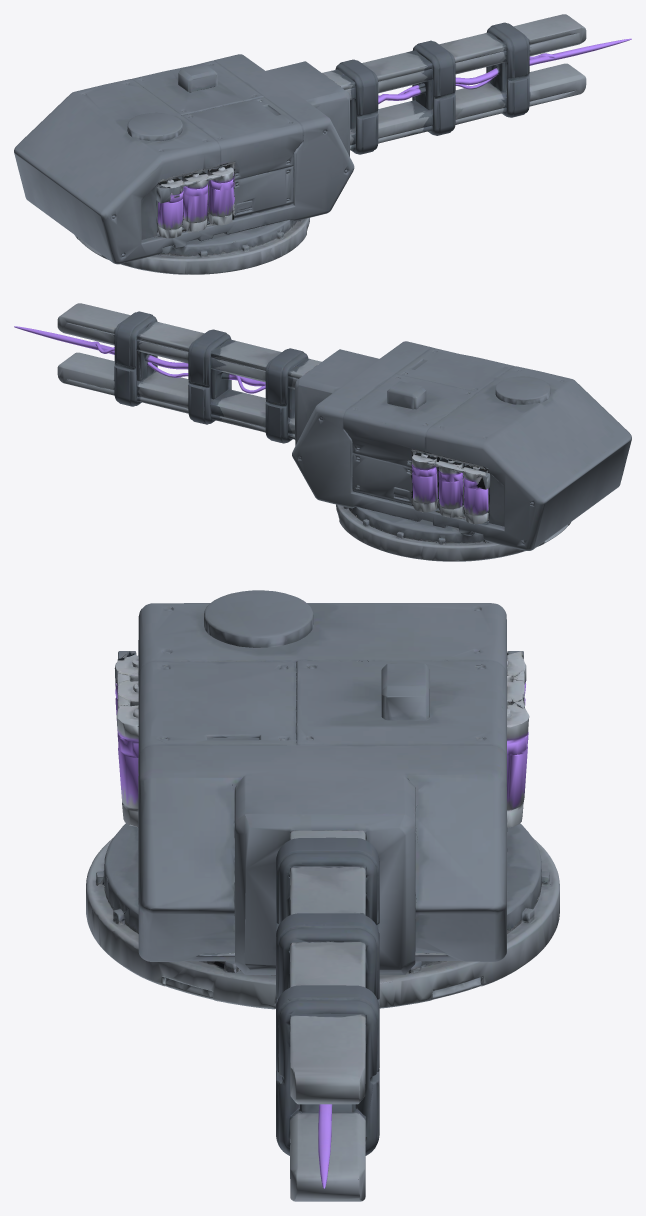
File: weapon-siege-1-full.glb
3 views of the same model, one above another, from view 1: azimuth 30°, elevation 25°; view 2: azimuth 150°, elevation 25°; view 3: azimuth 270°, elevation 25° (orthographic). The views are drawn at different scales.
Visible parts, largest first — view 1: weapon-siege-1-full; view 2: weapon-siege-1-full; view 3: weapon-siege-1-full.
Part boxes in pixels (x1,y1,x2,y2): weapon-siege-1-full: [14, 14, 631, 274]; weapon-siege-1-full: [14, 303, 631, 561]; weapon-siege-1-full: [86, 590, 559, 1201].
Size of the model in its own units: 2.6 by 0.58 by 0.9304.
Materials: 1 (1 with a texture image).
